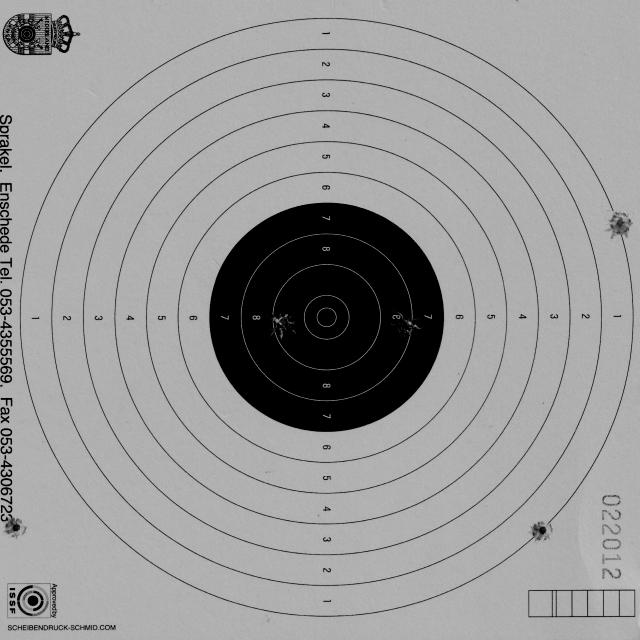0: (0, 515, 30, 543)
1: (602, 209, 635, 241), (526, 519, 554, 544)
8: (389, 310, 422, 340)
9: (264, 309, 298, 341)
Target: (16, 15, 636, 620)
black_contour: (207, 202, 444, 434)
